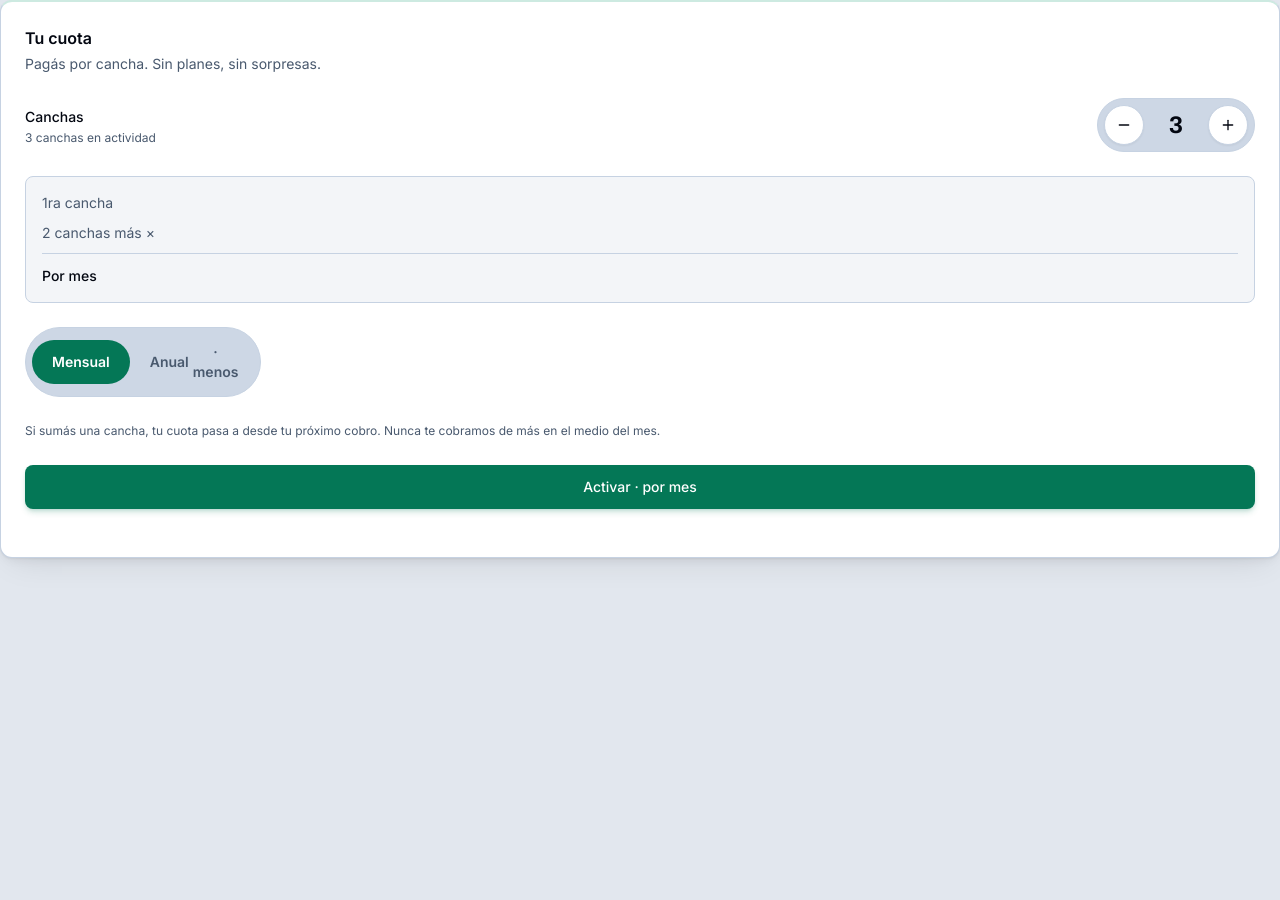
CuotaSection — manejo de errores › DOWNGRADE_BLOCKED muestra un mensaje entendible + link a Canchas
This screenshot has width=1280, height=900.
Step 1. Click the button "Activar · por mes" → coordinates (640, 486), box [25,464,1255,508]
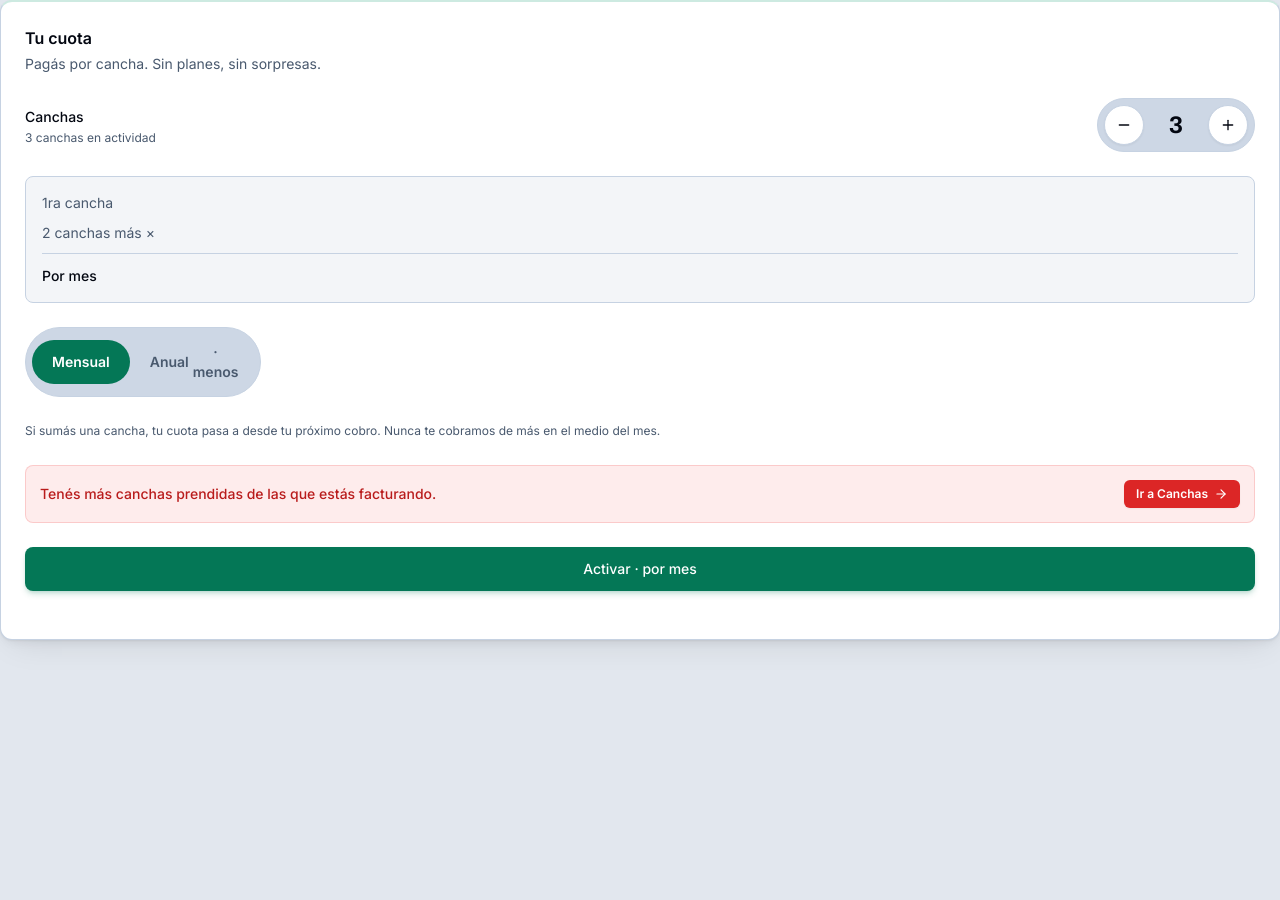
Check: the message shows "Tenés más canchas prendidas de las que estás facturando.", box [40,484,436,502]
